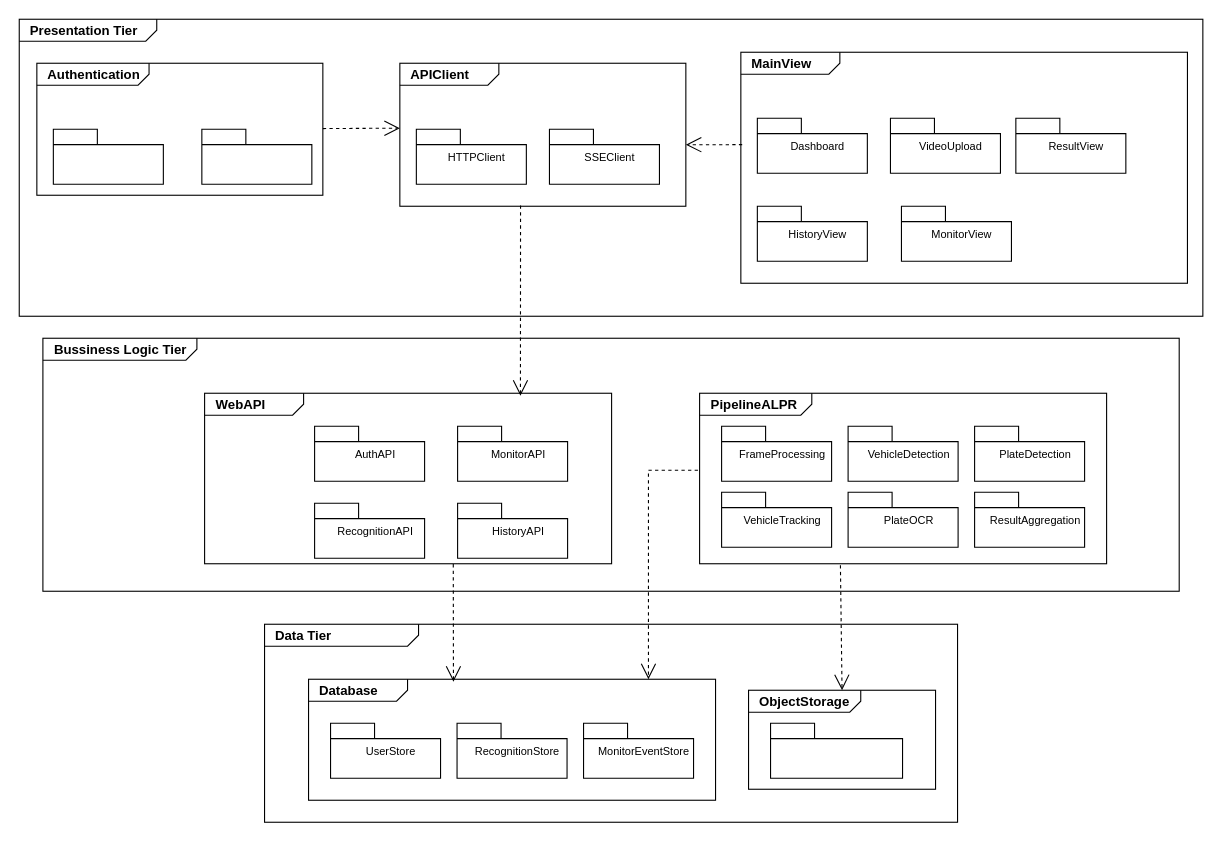
This 1222x842 diagram has some shape labels left out. Here are the shapes that lost their labels. From the top down, the centre of each, then its label:
point (107, 156): Login
point (256, 156): RouteGuard
point (836, 750): EvidenceImageStore
